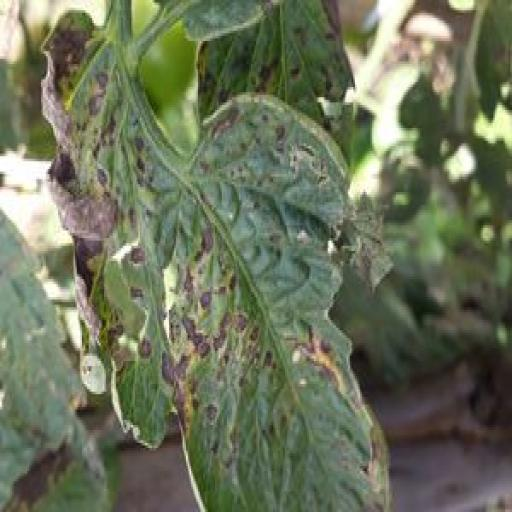disease_tomato: (37, 10, 395, 512)
